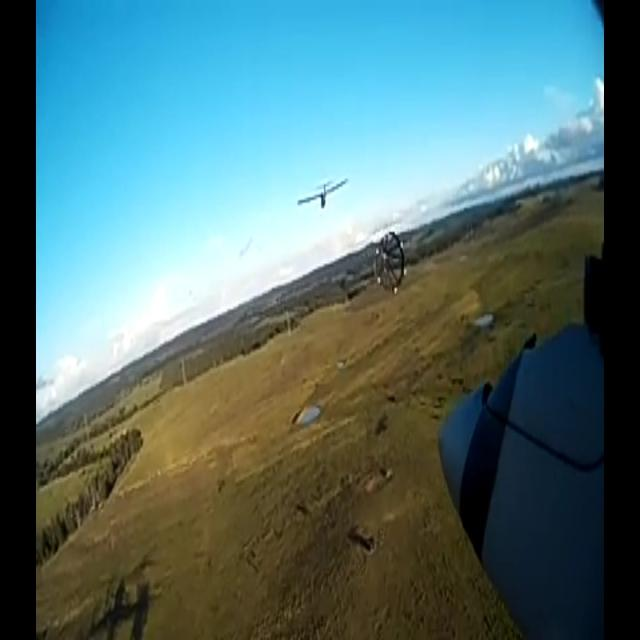iha: (297, 177, 349, 212)
